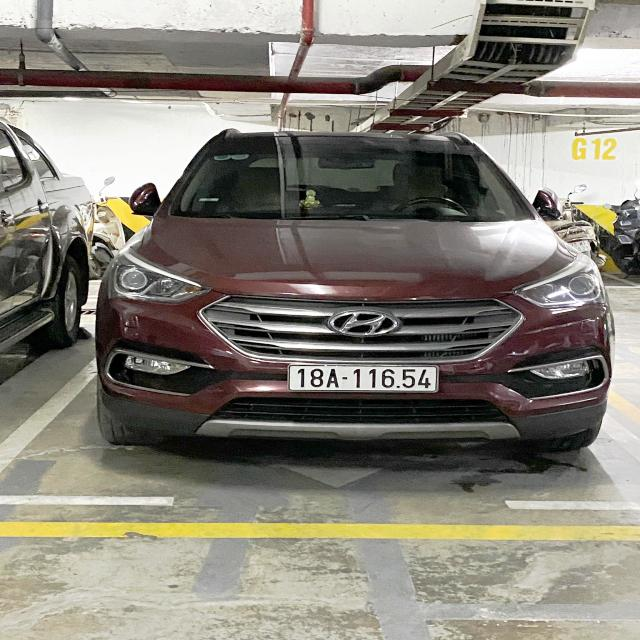license_plate: (282, 363, 446, 397)
